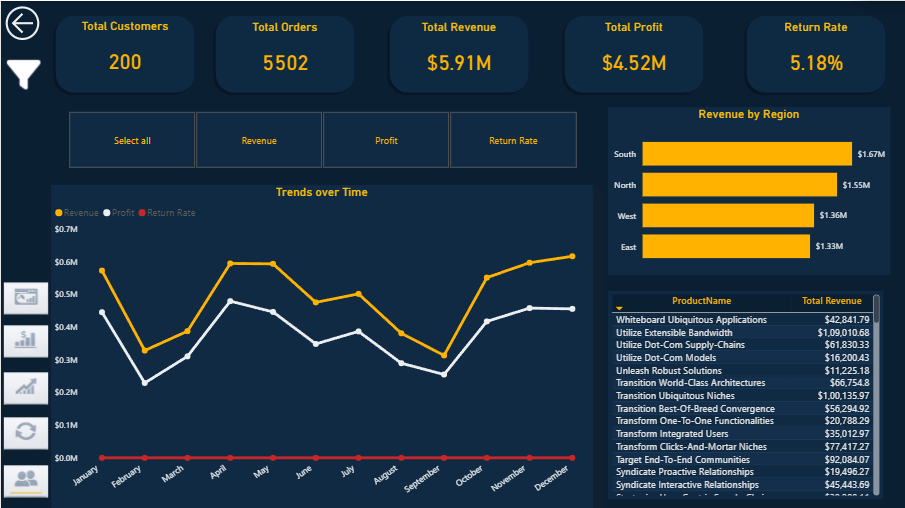

What the dashboard file says about the page in this screenshot:
{"tool":"powerbi","page":{"name":"Overview","canvas":[1280,720],"ordinal":0},"visuals":[{"type":"group","id":"g1","title":"Group 4","box":[297.9,13.8,209.8,121.9],"z":0},{"type":"shape","box":[297.9,13.8,210.2,122.4],"z":0,"group":"g1"},{"type":"shape","box":[544.9,13.8,210.2,122.4],"z":0,"group":"g2"},{"type":"shape","box":[791.9,13.8,210.2,122.4],"z":0,"group":"g3"},{"type":"shape","box":[1050.2,14.2,210.2,122.4],"z":0,"group":"g4"},{"type":"shape","box":[71.4,14.3,210.2,122.4],"z":0,"group":"g5"},{"type":"group","id":"g2","title":"Group 3","box":[544.9,13.8,209.8,121.9],"z":1000},{"type":"card","title":"Total Customers","fields":{"Values":["Measure Table.Total Customer"]},"box":[81.2,25.2,189.9,99.2],"z":1000,"group":"g5"},{"type":"card","title":"Total Orders","fields":{"Values":["Measure Table.Total Unit Sold"]},"box":[307.7,26.6,189.9,99.2],"z":1000,"group":"g1"},{"type":"card","title":"Total Revenue","fields":{"Values":["Measure Table.Total Revenue"]},"box":[554.7,26.6,189.9,99.2],"z":1000,"group":"g2"},{"type":"card","title":"Total Profit","fields":{"Values":["Measure Table.Total Profit"]},"box":[801.7,26.6,189.9,99.2],"z":1000,"group":"g3"},{"type":"card","title":"Return Rate","fields":{"Values":["Measure Table.Return Rate"]},"box":[1060,27,189.9,99.2],"z":1000,"group":"g4"},{"type":"group","id":"g3","title":"Group 2","box":[791.9,13.8,209.8,121.9],"z":2000},{"type":"group","id":"g4","title":"Group 1","box":[1050.2,14.2,209.8,121.9],"z":3000},{"type":"lineChart","title":"Trends over Time","fields":{"Category":["Date_Dim.Date.Variation.Date Hierarchy.Year","Date_Dim.Date.Variation.Date Hierarchy.Quarter","Date_Dim.Date.Variation.Date Hierarchy.Month"],"Y":["Measure Table.Total Revenue","Measure Table.Total Profit","Measure Table.Return Rate"]},"box":[70.9,260.8,768.2,459.2],"z":4000},{"type":"group","id":"g5","title":"Group 4","box":[71.4,14.3,210,122.9],"z":5000},{"type":"clusteredBarChart","title":"Revenue by Region","fields":{"Category":["Region_Dim.RegionName"],"Y":["Measure Table.Total Revenue"]},"box":[860.3,150.2,399.7,238.1],"z":6000},{"type":"actionButton","box":[0,0,60.9,62.4],"z":7000},{"type":"tableEx","fields":{"Values":["Product_Dim.ProductName","Measure Table.Total Revenue"]},"box":[860.3,411,389.8,294.8],"z":8000},{"type":"actionButton","box":[0,0,60.9,62.4],"z":9000},{"type":"actionButton","box":[0,384.5,70.9,75.1],"z":10000},{"type":"actionButton","box":[0,445.5,70.9,75.1],"z":11000},{"type":"actionButton","box":[0,512.1,70.9,75.1],"z":12000},{"type":"actionButton","box":[0,575.9,70.9,75.1],"z":13000},{"type":"actionButton","box":[0,643.9,70.9,75.1],"z":14000},{"type":"slicer","fields":{"Values":["Parameter 2.Parameter"]},"box":[71.4,150,768.6,92.9],"z":15000},{"type":"actionButton","box":[4.3,77.1,61.4,55.7],"z":16000}]}

Visuals, with their boxes on the page's 1280x720 design canvas (x1, y1, x2, y2). These are canvas units, not pixel positions in the 905x508 screenshot, which may show the page scaled, cropped or inside an application window:
"Group 4" group: {"x1": 298, "y1": 14, "x2": 508, "y2": 136}
shape: {"x1": 298, "y1": 14, "x2": 508, "y2": 136}
shape: {"x1": 545, "y1": 14, "x2": 755, "y2": 136}
shape: {"x1": 792, "y1": 14, "x2": 1002, "y2": 136}
shape: {"x1": 1050, "y1": 14, "x2": 1260, "y2": 137}
shape: {"x1": 71, "y1": 14, "x2": 282, "y2": 137}
"Group 3" group: {"x1": 545, "y1": 14, "x2": 755, "y2": 136}
"Total Customers" card: {"x1": 81, "y1": 25, "x2": 271, "y2": 124}
"Total Orders" card: {"x1": 308, "y1": 27, "x2": 498, "y2": 126}
"Total Revenue" card: {"x1": 555, "y1": 27, "x2": 745, "y2": 126}
"Total Profit" card: {"x1": 802, "y1": 27, "x2": 992, "y2": 126}
"Return Rate" card: {"x1": 1060, "y1": 27, "x2": 1250, "y2": 126}
"Group 2" group: {"x1": 792, "y1": 14, "x2": 1002, "y2": 136}
"Group 1" group: {"x1": 1050, "y1": 14, "x2": 1260, "y2": 136}
"Trends over Time" lineChart: {"x1": 71, "y1": 261, "x2": 839, "y2": 720}
"Group 4" group: {"x1": 71, "y1": 14, "x2": 281, "y2": 137}
"Revenue by Region" clusteredBarChart: {"x1": 860, "y1": 150, "x2": 1260, "y2": 388}
actionButton: {"x1": 0, "y1": 0, "x2": 61, "y2": 62}
tableEx - Product_Dim.ProductName x Measure Table.Total Revenue: {"x1": 860, "y1": 411, "x2": 1250, "y2": 706}
actionButton: {"x1": 0, "y1": 0, "x2": 61, "y2": 62}
actionButton: {"x1": 0, "y1": 384, "x2": 71, "y2": 460}
actionButton: {"x1": 0, "y1": 446, "x2": 71, "y2": 521}
actionButton: {"x1": 0, "y1": 512, "x2": 71, "y2": 587}
actionButton: {"x1": 0, "y1": 576, "x2": 71, "y2": 651}
actionButton: {"x1": 0, "y1": 644, "x2": 71, "y2": 719}
slicer - Parameter 2.Parameter: {"x1": 71, "y1": 150, "x2": 840, "y2": 243}
actionButton: {"x1": 4, "y1": 77, "x2": 66, "y2": 133}
